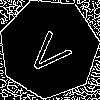V: (24, 23, 79, 79)
